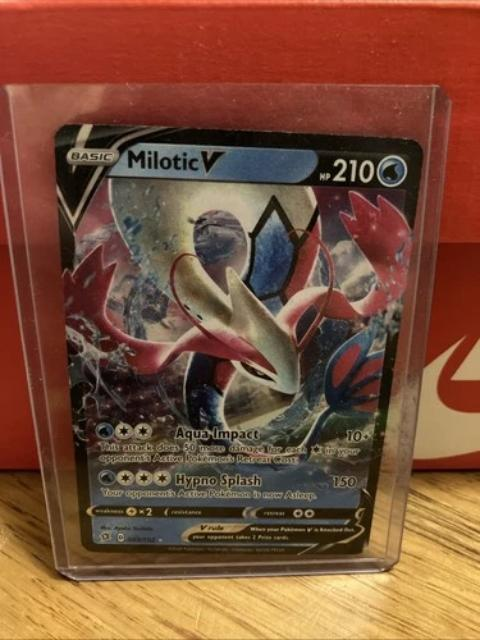Card: (50, 119, 424, 557)
Name: (123, 140, 228, 174)
